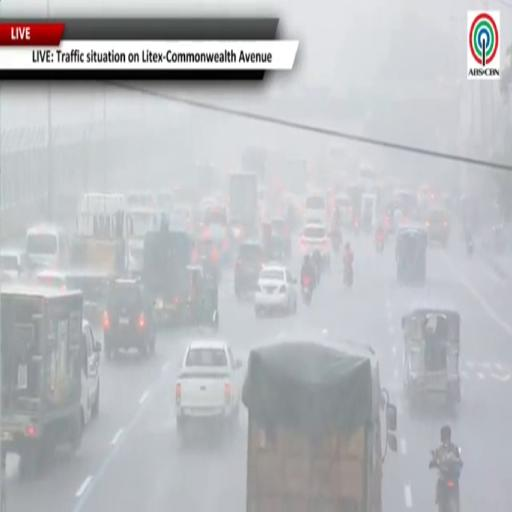car: (176, 340, 242, 442), (103, 279, 156, 359), (255, 264, 297, 315), (81, 320, 101, 424), (234, 241, 263, 298), (300, 223, 330, 267), (0, 249, 34, 279), (426, 208, 450, 248), (271, 218, 291, 258)
motorcycle: (430, 451, 462, 511), (311, 250, 323, 284), (301, 276, 312, 305), (331, 230, 342, 254), (343, 265, 353, 287), (466, 237, 474, 257), (353, 216, 361, 234), (376, 236, 384, 253), (467, 240, 474, 257)
truck: (242, 341, 396, 511), (0, 284, 86, 477), (141, 227, 191, 326), (228, 172, 259, 241)
